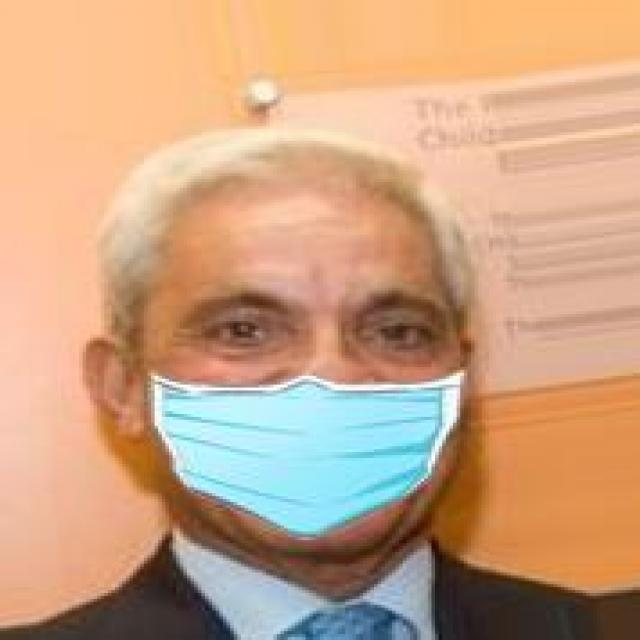mask: (86, 82, 518, 558)
